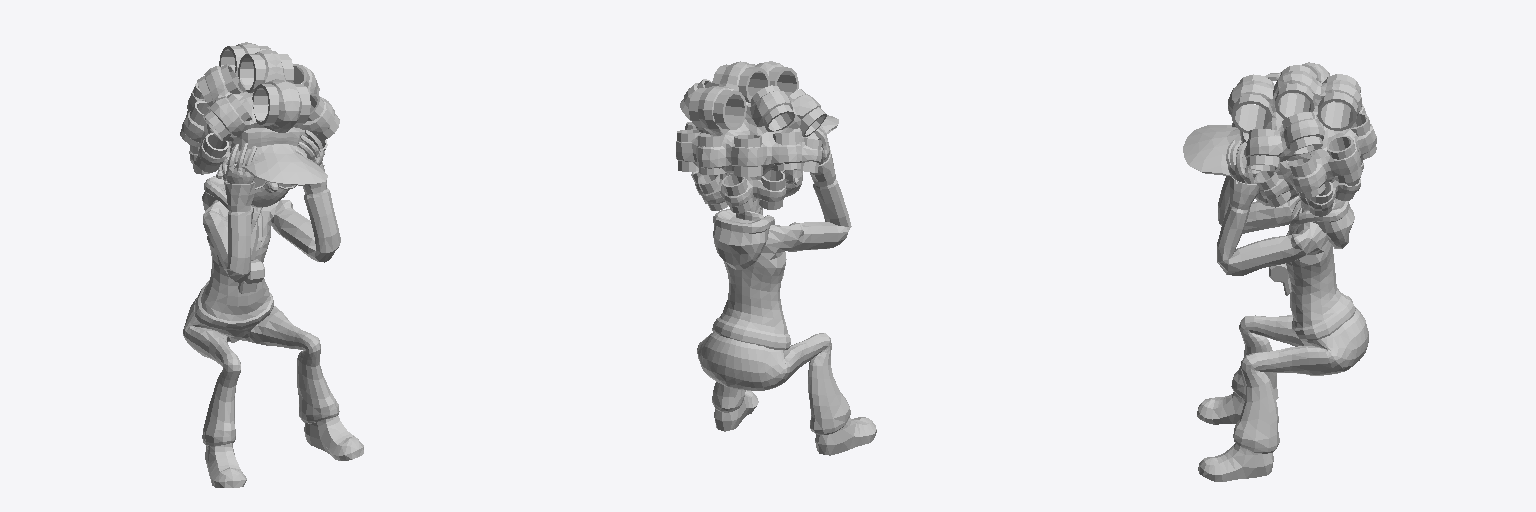
The model's file is humano_mom_9.obj.
The picture shows the model from 3 angles: view 1: azimuth 30°, elevation 25°; view 2: azimuth 150°, elevation 25°; view 3: azimuth 270°, elevation 25°; orthographic projection.
Parts seen in each view (by area): view 1: Fitness_Grandma_BodyGeo; view 2: Fitness_Grandma_BodyGeo; view 3: Fitness_Grandma_BodyGeo.
Part boxes in pixels (x1,y1,x2,y2): Fitness_Grandma_BodyGeo: (180, 42, 363, 487); Fitness_Grandma_BodyGeo: (676, 61, 876, 455); Fitness_Grandma_BodyGeo: (1183, 62, 1376, 481).
Bounding box in the file's own units: 0.464 × 1.15 × 0.5239.